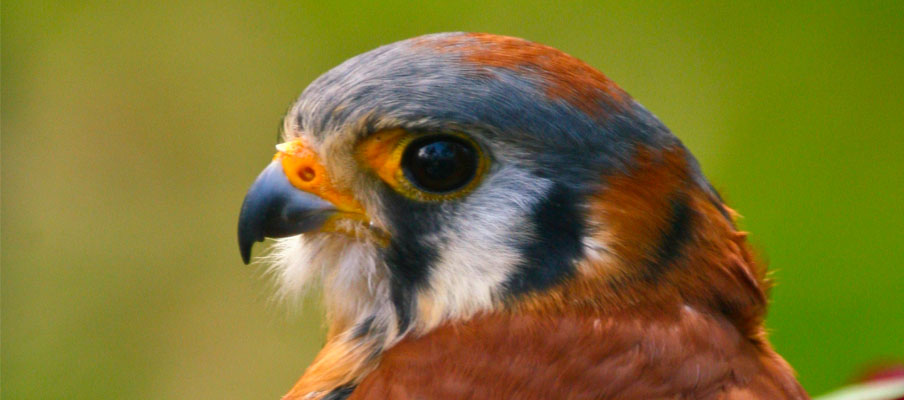Pengoyak Daging: (218, 150, 322, 281)
